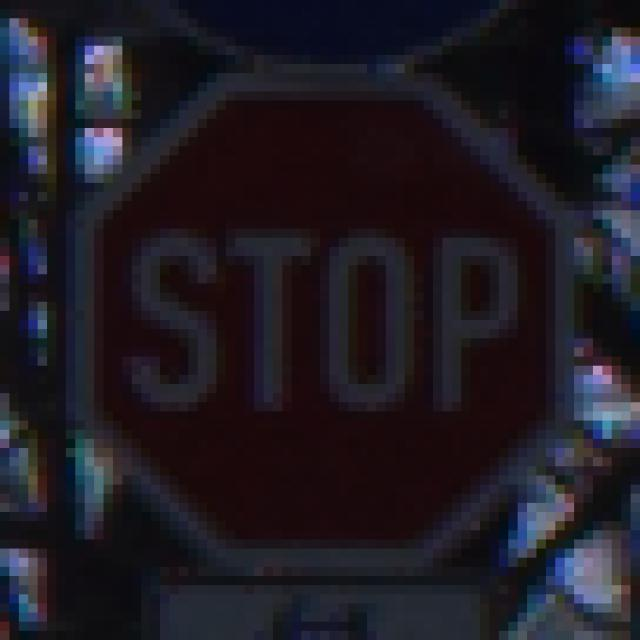STOP: (58, 56, 585, 586)
